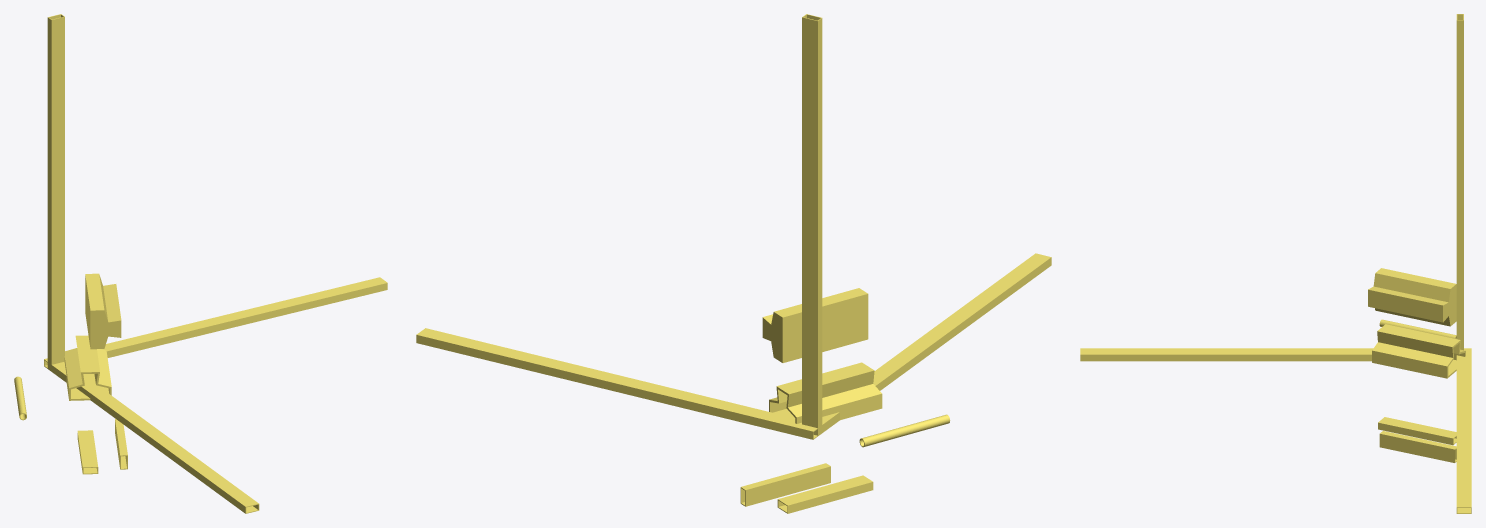
Rendered from core.glb.
3 renders of one model, left to right at view 1: azimuth 30°, elevation 25°; view 2: azimuth 150°, elevation 25°; view 3: azimuth 270°, elevation 25°, orthographic. The views are drawn at different scales.
Visible parts, largest first — view 1: OpenSCAD Model; view 2: OpenSCAD Model; view 3: OpenSCAD Model.
Part boxes in pixels (bbox=[...]): OpenSCAD Model: bbox=[14, 14, 387, 513]; OpenSCAD Model: bbox=[416, 14, 1051, 513]; OpenSCAD Model: bbox=[1080, 14, 1471, 513].
Size of the model in its own units: 1209 by 1220 by 1040.
